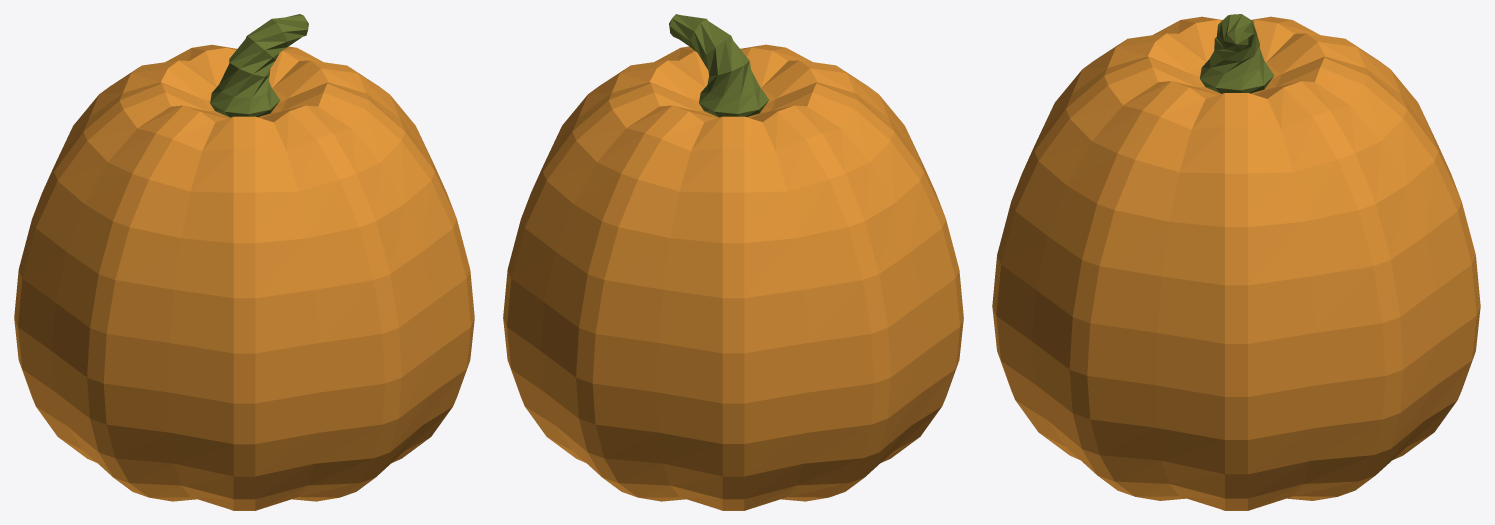
File: Pumpkin_2.glb
The picture shows the model from 3 angles, left to right: view 1: azimuth 30°, elevation 25°; view 2: azimuth 150°, elevation 25°; view 3: azimuth 270°, elevation 25°; orthographic projection. The views are drawn at different scales.
Bounding box in the file's own units: 21.11 × 22.23 × 21.39.
Materials: 1 (1 with a texture image).
